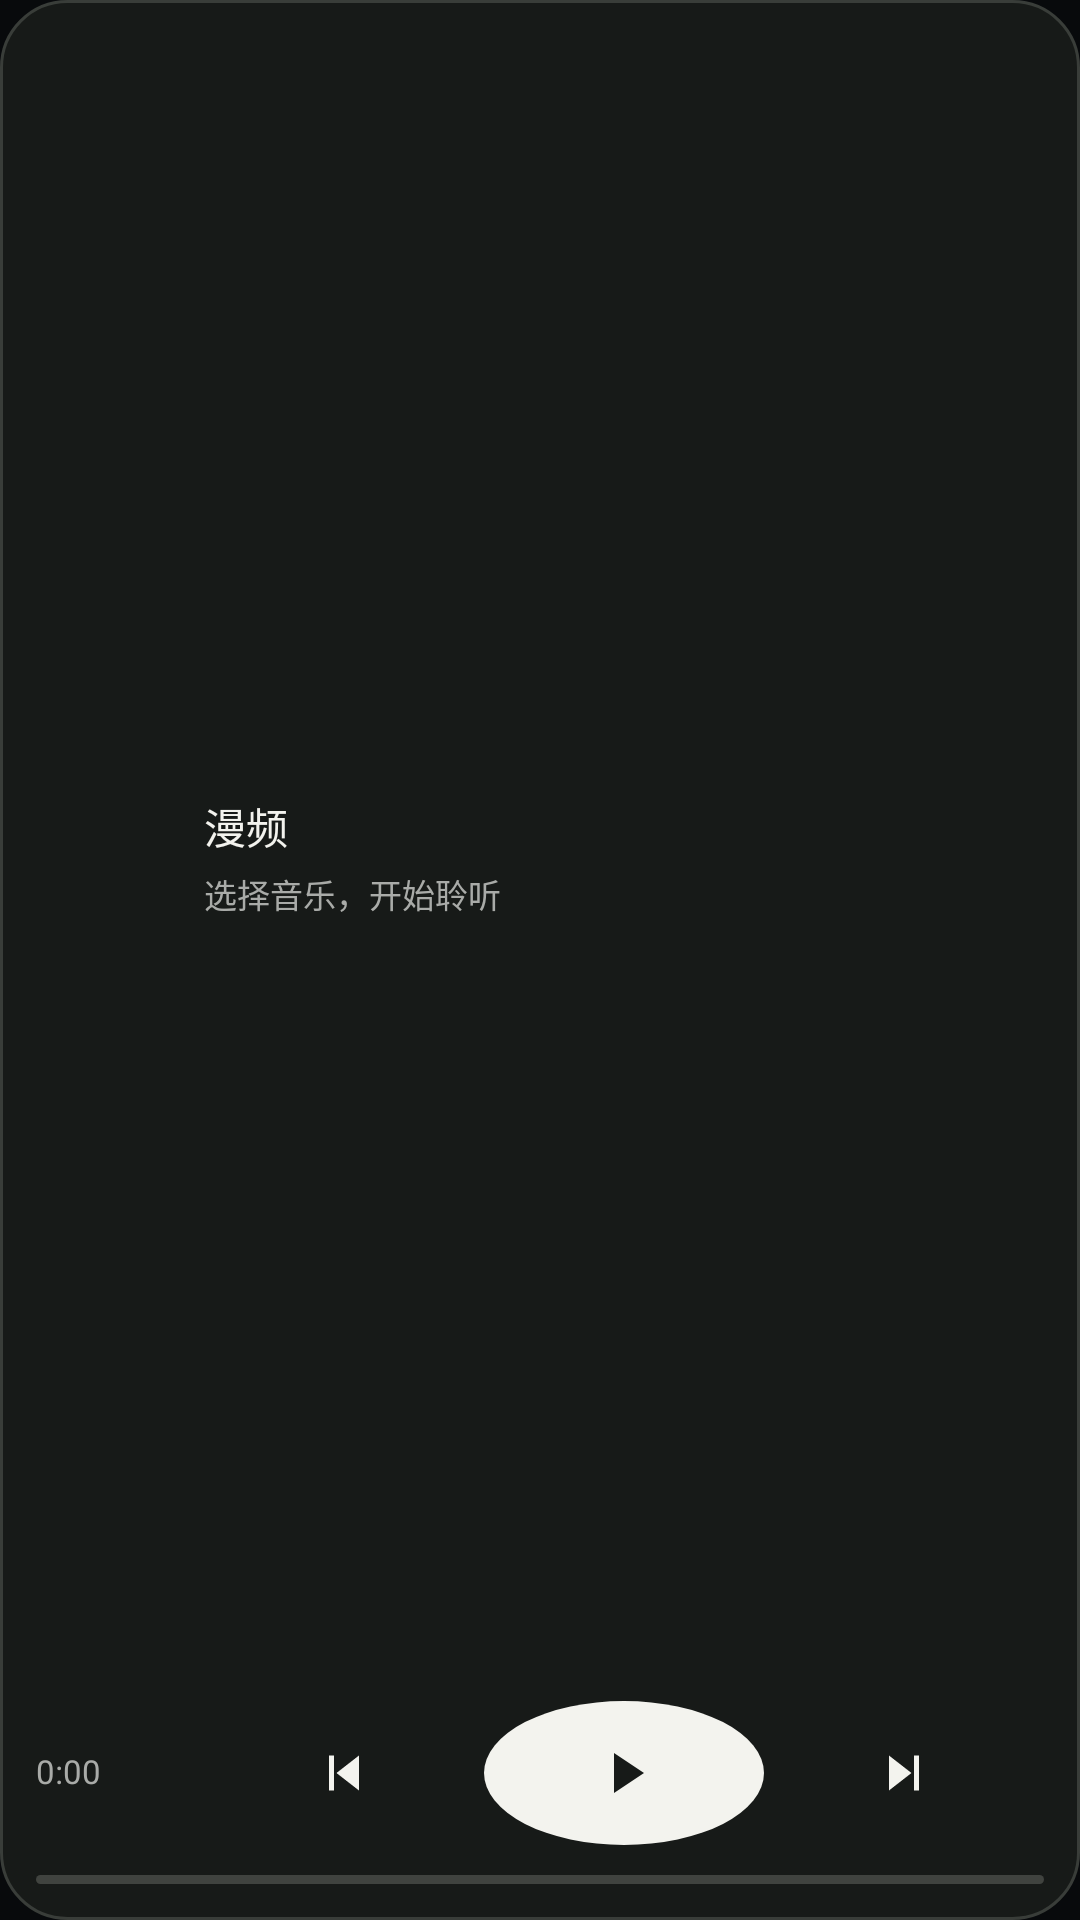

Icon bounding boxes for this 1080px x 1920px phone screenshot, format [x1,y1,x2,y2]:
上一首: [329,1755,359,1791]
下一首: [889,1755,919,1791]
播放或暂停: [484,1701,764,1845]
